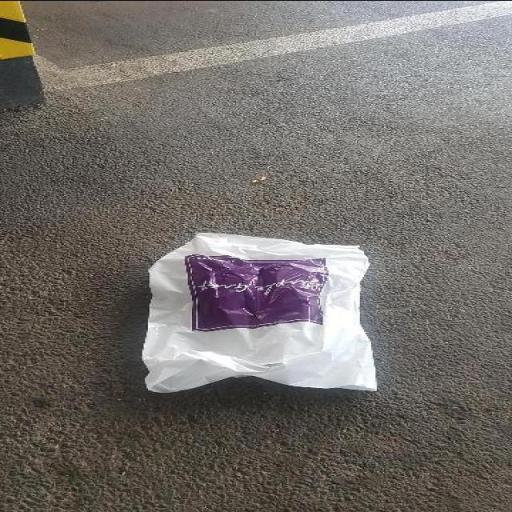plastic-bag: (139, 230, 380, 394)
